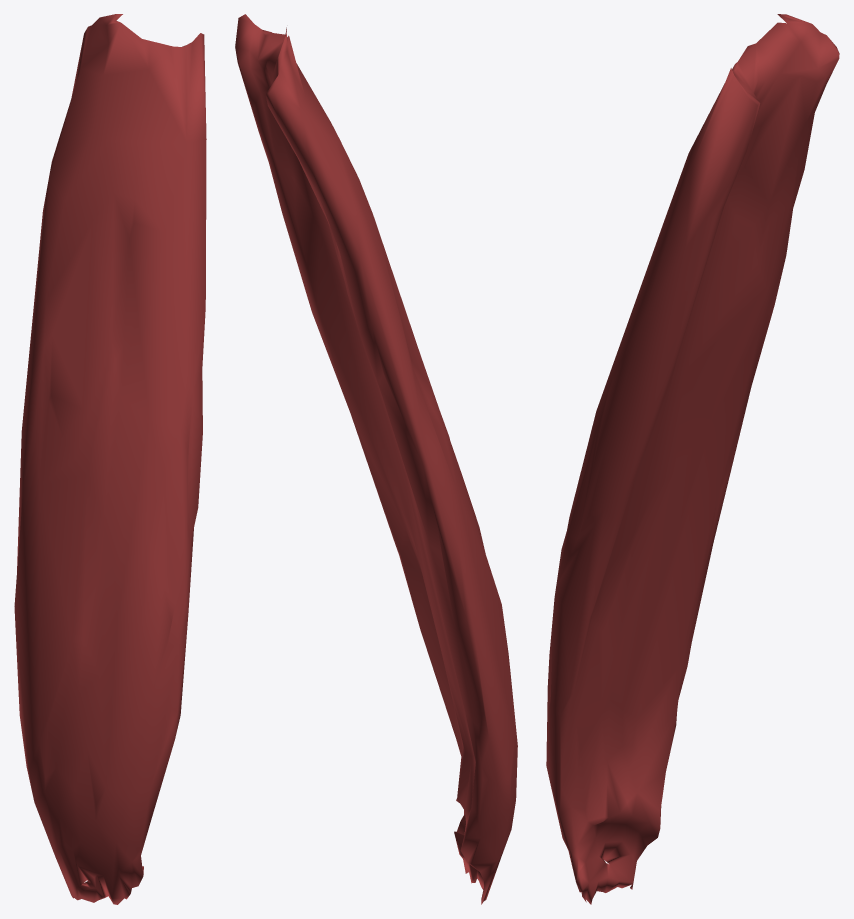
Rendered from abductor-digiti-minimi-of-hand-l.glb.
The picture shows the model from 3 angles, left to right: view 1: azimuth 30°, elevation 25°; view 2: azimuth 150°, elevation 25°; view 3: azimuth 270°, elevation 25°; orthographic projection. The views are drawn at different scales.
Parts seen in each view (by area): view 1: Abductor digiti minimi of hand.l; view 2: Abductor digiti minimi of hand.l; view 3: Abductor digiti minimi of hand.l.
Boxes of the visible parts, x1,y1,x2,y2 form: Abductor digiti minimi of hand.l: [14, 14, 206, 904]; Abductor digiti minimi of hand.l: [235, 14, 517, 904]; Abductor digiti minimi of hand.l: [546, 14, 839, 904].
Size of the model in its own units: 0.0182 by 0.067 by 0.019.
